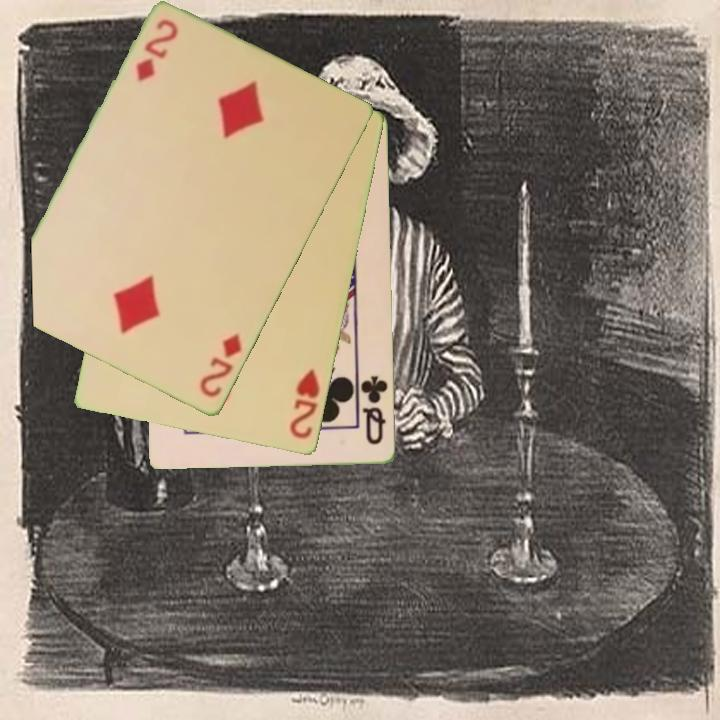2d: (196, 330, 245, 401), (132, 16, 181, 85)
2h: (286, 365, 324, 443)
Qc: (357, 373, 391, 448)
